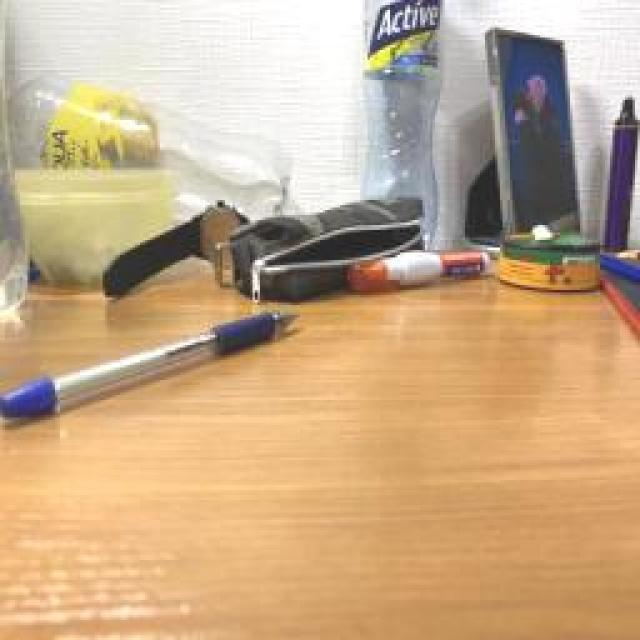pen: (0, 308, 303, 422)
